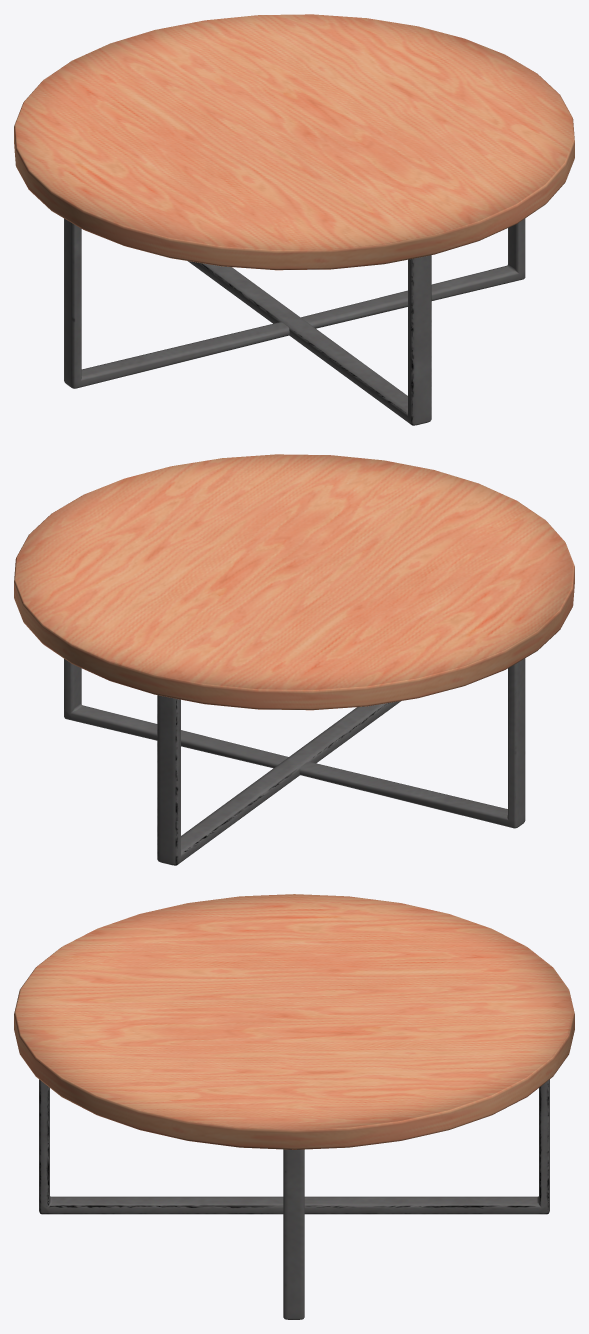
The model's file is SM_CoffeeTableWodenLightS.fbx.
The picture shows the model from 3 angles, top to bottom: view 1: azimuth 30°, elevation 25°; view 2: azimuth 150°, elevation 25°; view 3: azimuth 270°, elevation 25°; orthographic projection.
Parts seen in each view (by area): view 1: SM_CoffeeTableWodenLightS_LOD0; view 2: SM_CoffeeTableWodenLightS_LOD0; view 3: SM_CoffeeTableWodenLightS_LOD0.
Boxes of the visible parts, <box> form: SM_CoffeeTableWodenLightS_LOD0: <box>14,14,574,425</box>; SM_CoffeeTableWodenLightS_LOD0: <box>14,454,574,865</box>; SM_CoffeeTableWodenLightS_LOD0: <box>14,894,574,1319</box>.
Bounding box in the file's own units: 130 × 130 × 50.93.
1 material, 1 textured.
